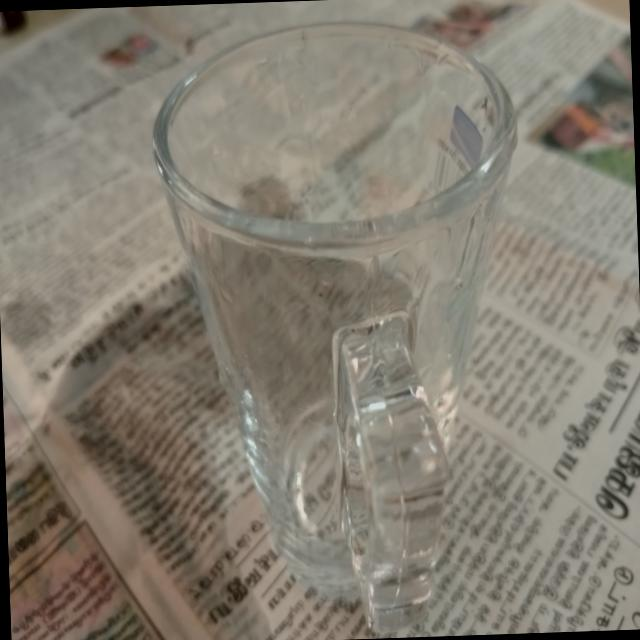glass-VX4N: (148, 14, 536, 634)
